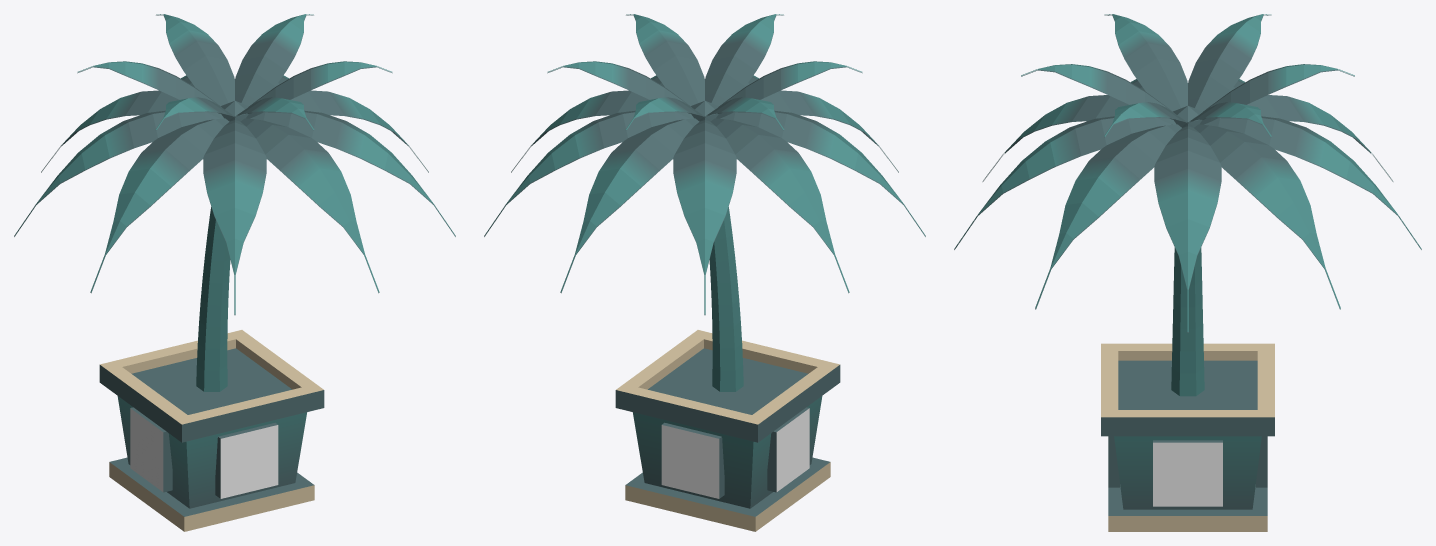
File: KC32__AD_Ext_Planter_Palm.glb
The picture shows the model from 3 angles, left to right: view 1: azimuth 30°, elevation 25°; view 2: azimuth 150°, elevation 25°; view 3: azimuth 270°, elevation 25°; orthographic projection. The views are drawn at different scales.
Visible parts, largest first — view 1: KC32_CORPS__AD_Ext_Planter_Palm, KC32_BRONZE__AD_Ext_Planter_Palm, KC32_ACCENT__AD_Ext_Planter_Palm; view 2: KC32_CORPS__AD_Ext_Planter_Palm, KC32_BRONZE__AD_Ext_Planter_Palm, KC32_ACCENT__AD_Ext_Planter_Palm; view 3: KC32_CORPS__AD_Ext_Planter_Palm, KC32_BRONZE__AD_Ext_Planter_Palm, KC32_ACCENT__AD_Ext_Planter_Palm.
Part boxes in pixels (x1,y1,x2,y2): KC32_CORPS__AD_Ext_Planter_Palm: (14,14,455,516); KC32_BRONZE__AD_Ext_Planter_Palm: (100,330,323,531); KC32_ACCENT__AD_Ext_Planter_Palm: (130,408,278,498); KC32_CORPS__AD_Ext_Planter_Palm: (484,14,925,516); KC32_BRONZE__AD_Ext_Planter_Palm: (616,330,839,531); KC32_ACCENT__AD_Ext_Planter_Palm: (661,408,809,498); KC32_CORPS__AD_Ext_Planter_Palm: (954,14,1421,515); KC32_BRONZE__AD_Ext_Planter_Palm: (1101,343,1274,531); KC32_ACCENT__AD_Ext_Planter_Palm: (1153,442,1222,506).
Bounding box in the file's own units: 2.62 × 2.8 × 2.66.
